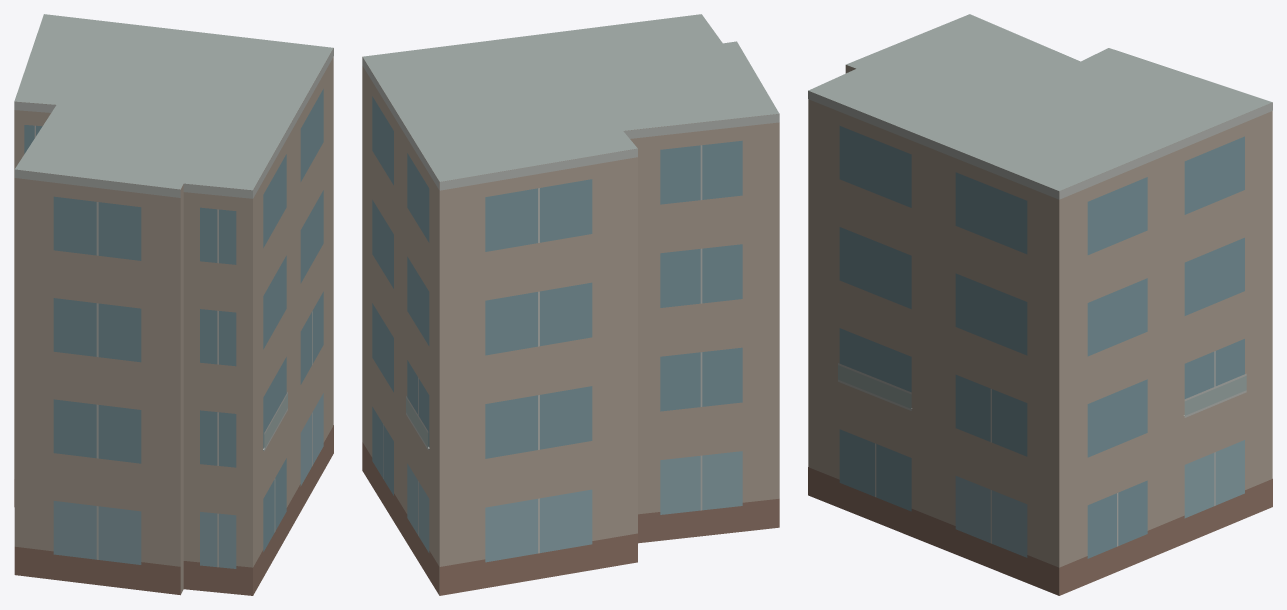
Rendered from survey-upis-32881980.glb.
The picture shows the model from 3 angles, left to right: view 1: azimuth 30°, elevation 25°; view 2: azimuth 150°, elevation 25°; view 3: azimuth 270°, elevation 25°; orthographic projection. The views are drawn at different scales.
Parts seen in each view (by area): view 1: survey-upis-32881980.tmp; view 2: survey-upis-32881980.tmp; view 3: survey-upis-32881980.tmp.
Part boxes in pixels (x1,y1,x2,y2): survey-upis-32881980.tmp: (14, 14, 333, 595); survey-upis-32881980.tmp: (362, 14, 779, 595); survey-upis-32881980.tmp: (808, 14, 1272, 595).
Bounding box in the file's own units: 10.9 × 11.6 × 12.08.
